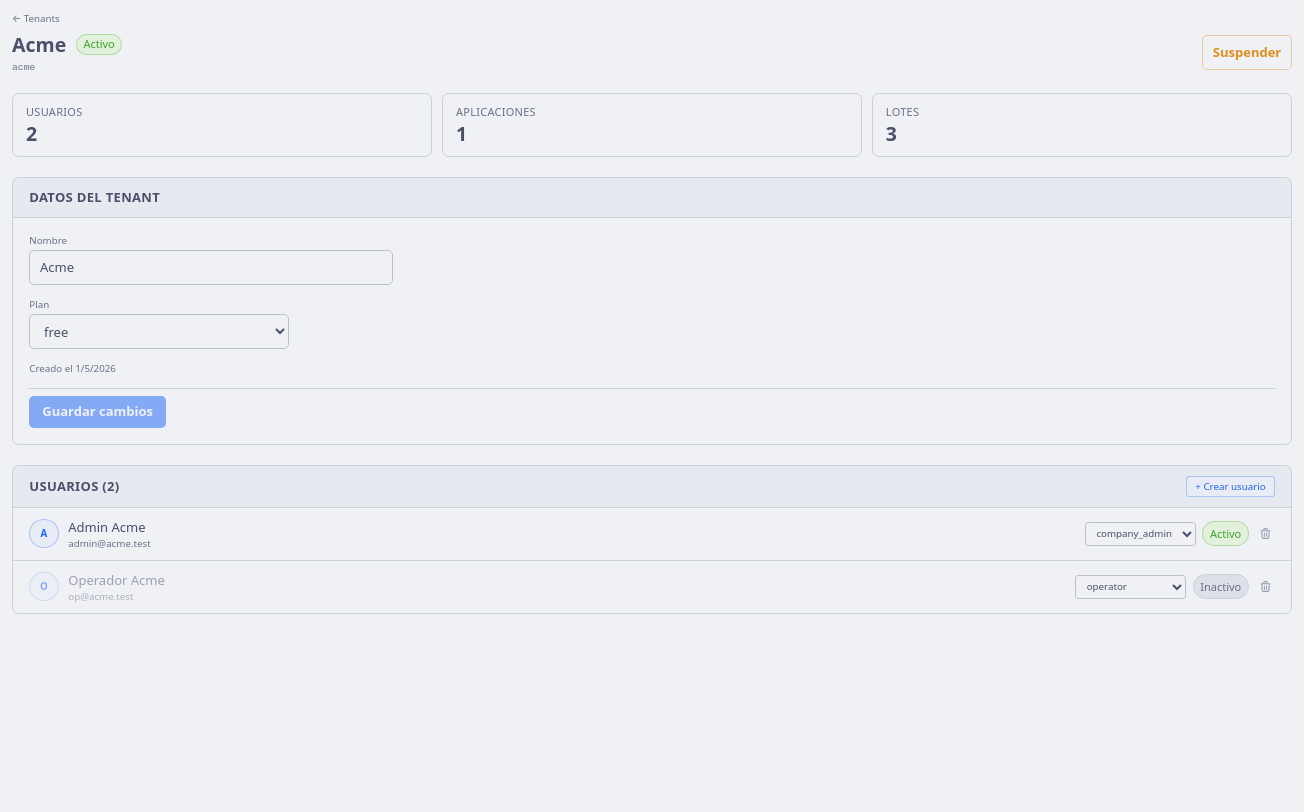
Test case: TenantDetailView — usuarios › error 409 del backend (último admin) se enseña como toast/inline
This screenshot has width=1304, height=812.
Step 1. Click the button with test id "user-active-toggle" → (1226,534), box [1202,521,1249,546]
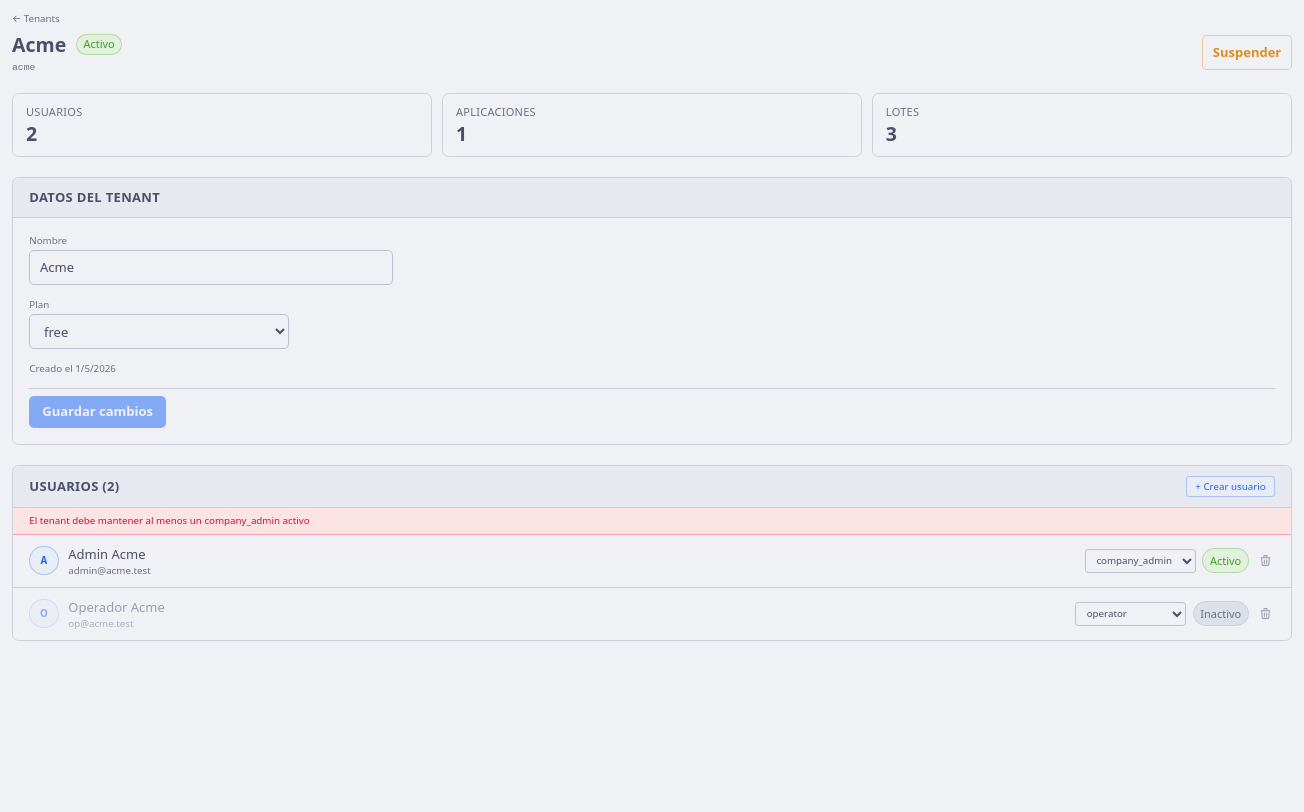
Check: the text "al menos un company_admin" is shown, box [29,514,310,527]
